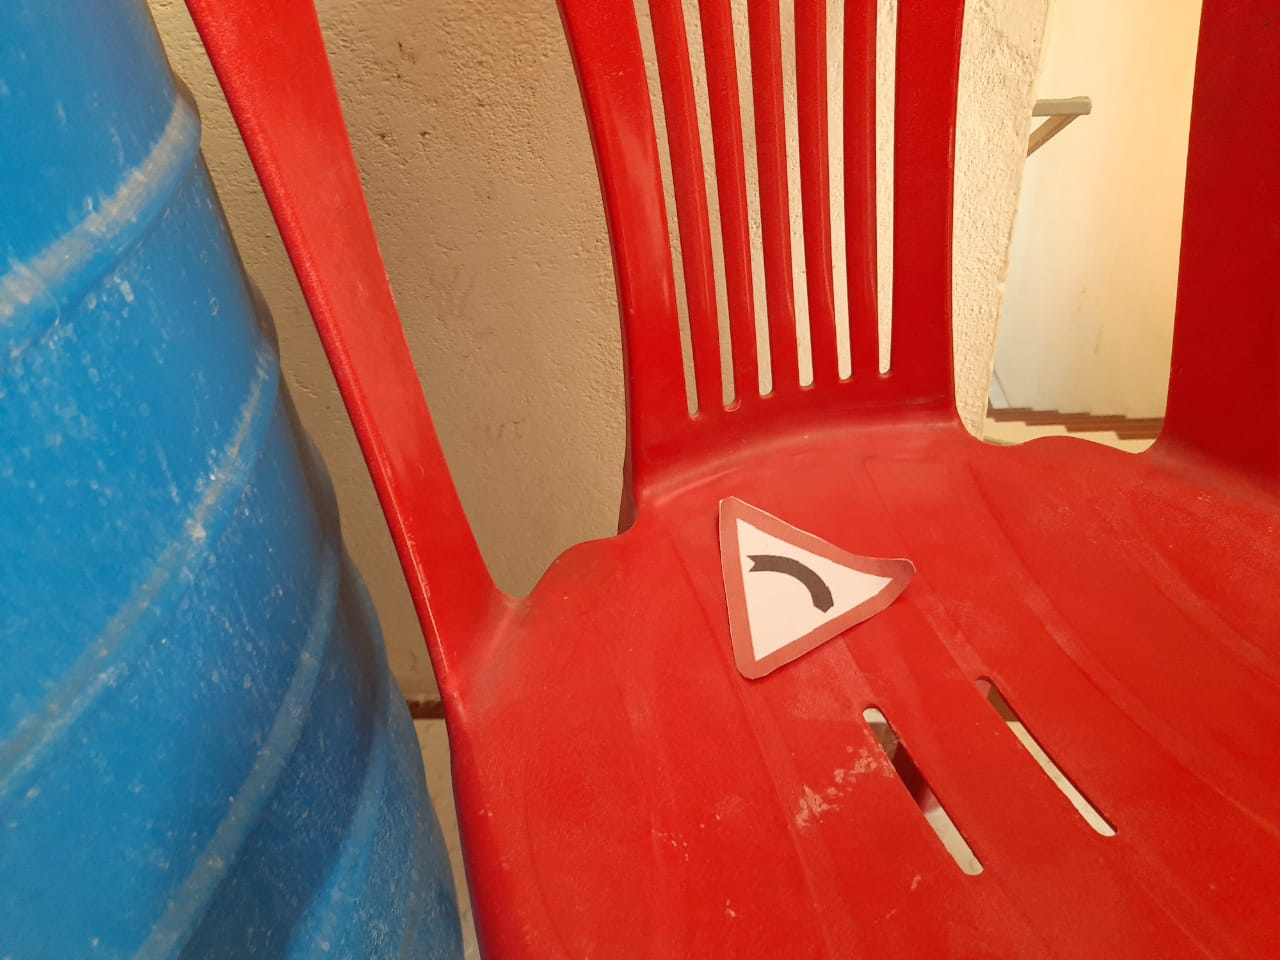RIGHT CURVE: (662, 425, 953, 697)
